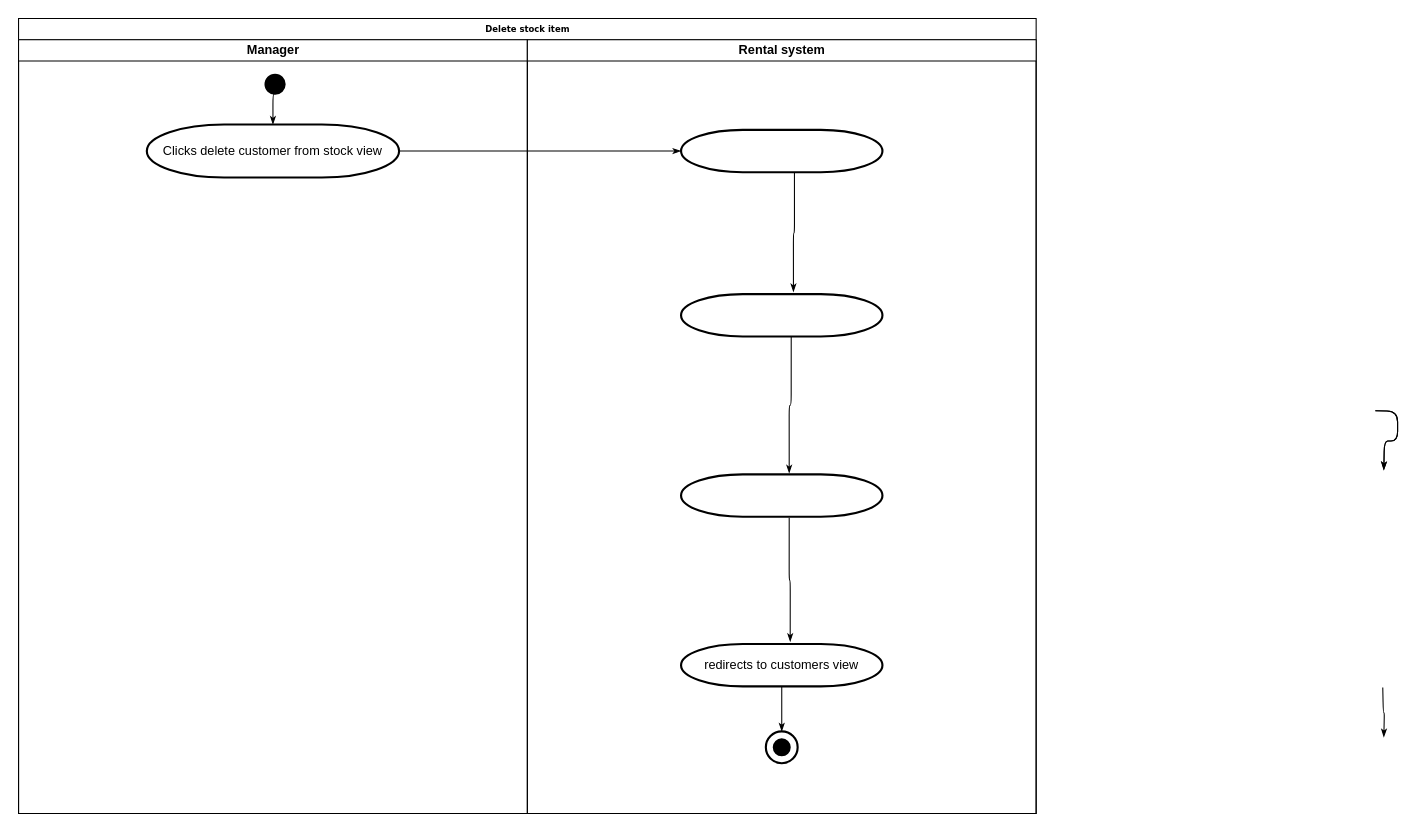
Some shapes in this 1424 by 832 pixel diagram are drawn without their labels. The centre of each missing label's shape, as x and y in pixels:
deletes customer from db: point (781, 315)
displays success view: point (781, 495)
finds customer in db by id: point (781, 150)
